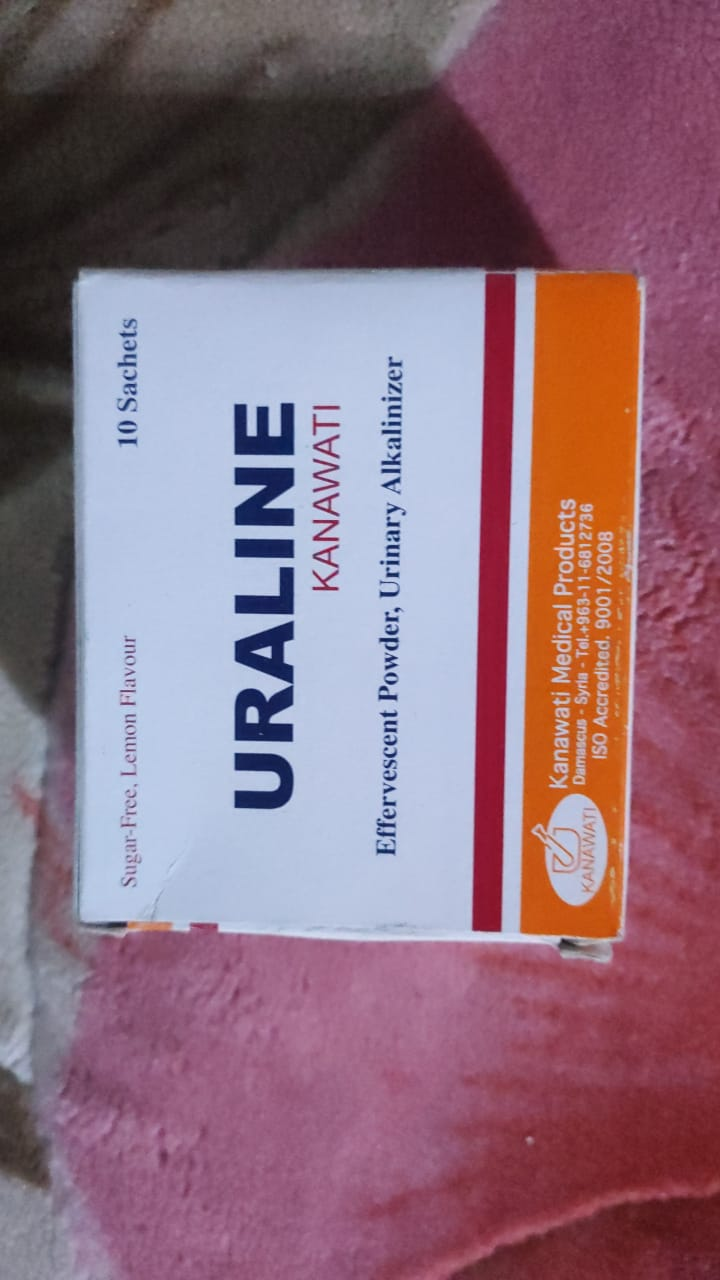Medicine: (50, 247, 647, 973)
